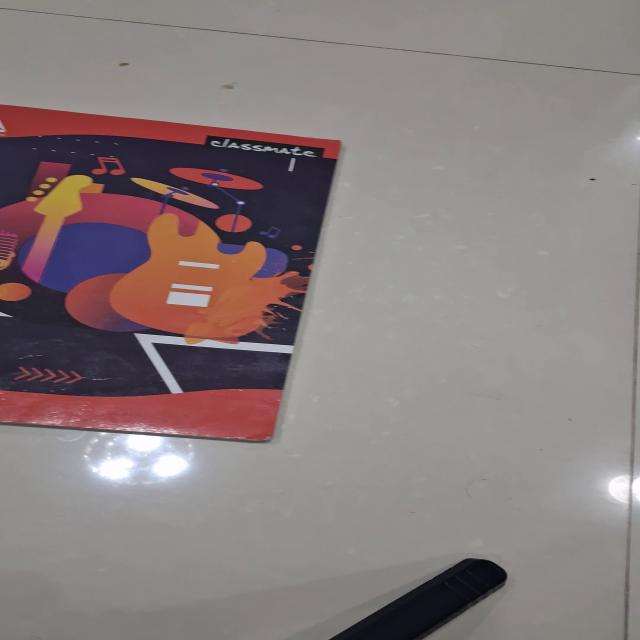paper: (1, 105, 341, 442)
